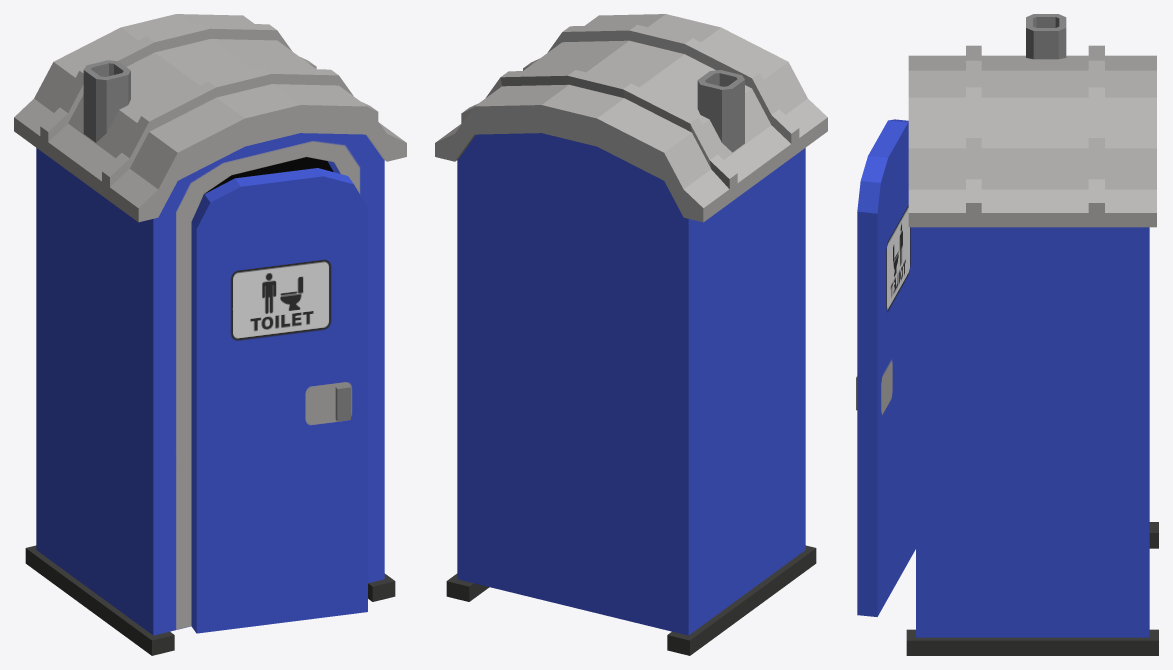
Rendered from ToiletStall_Open.fbx.
3 views of the same model, side by side, from view 1: azimuth 30°, elevation 25°; view 2: azimuth 150°, elevation 25°; view 3: azimuth 270°, elevation 25° (orthographic).
Parts seen in each view (by area): view 1: ToiletStall_Open; view 2: ToiletStall_Open; view 3: ToiletStall_Open.
Boxes of the visible parts, x1,y1,x2,y2 form: ToiletStall_Open: [14, 14, 406, 655]; ToiletStall_Open: [435, 14, 827, 655]; ToiletStall_Open: [856, 14, 1158, 655].
Size of the model in its own units: 428 by 805 by 419.
